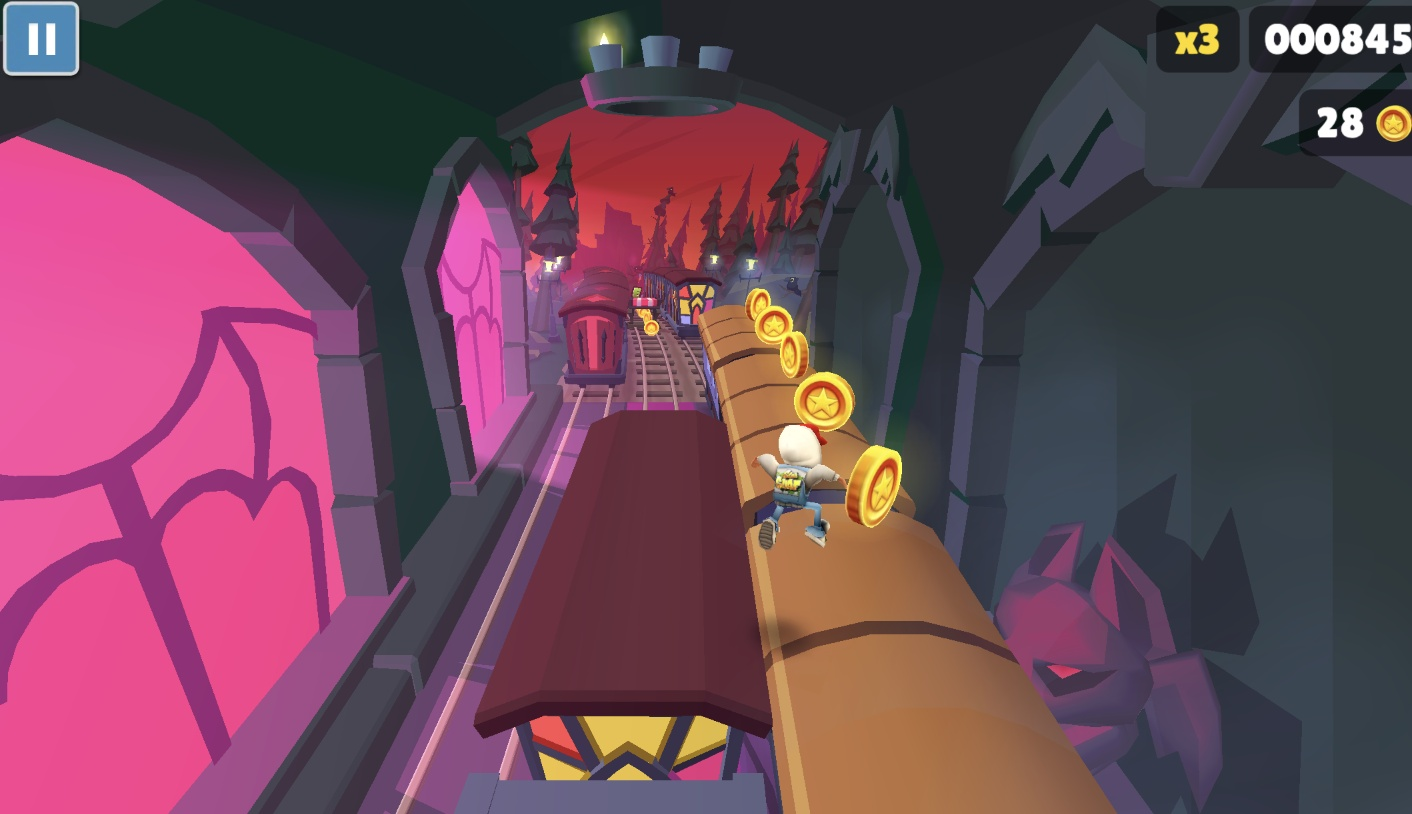ground_barrier: (630, 293, 662, 325)
train: (700, 297, 1123, 814), (503, 381, 825, 814), (557, 266, 632, 383), (638, 265, 722, 337)
